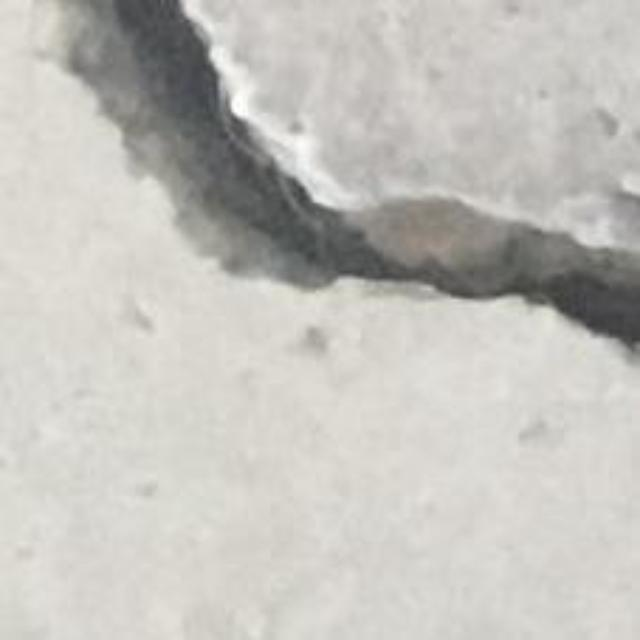crack: (51, 0, 639, 346)
